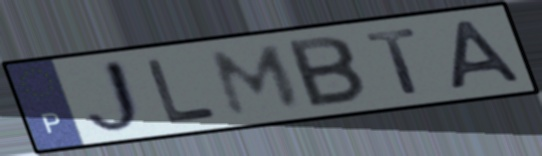A: (445, 17, 529, 92)
B: (283, 34, 370, 111)
J: (82, 56, 152, 136)
L: (141, 56, 223, 126)
M: (208, 42, 305, 119)
T: (361, 25, 424, 97)
